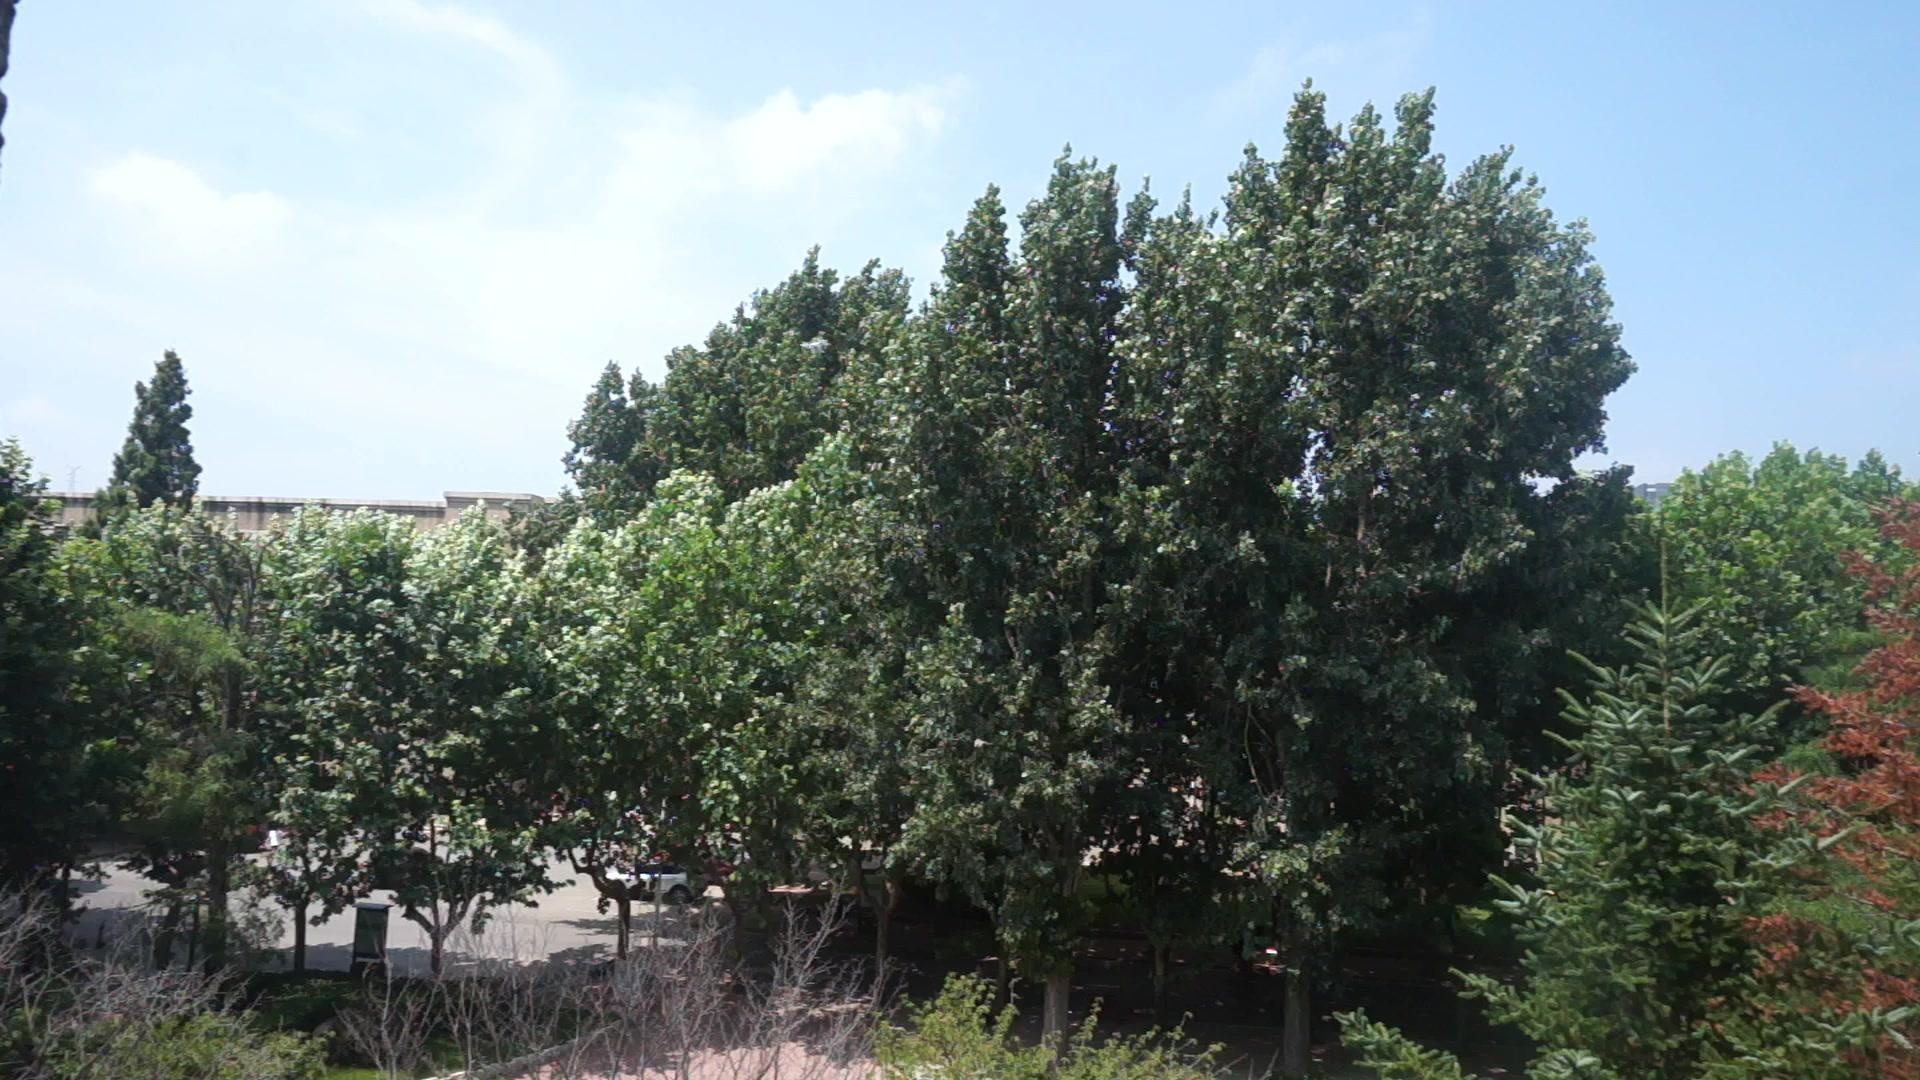UAV: (800, 338, 832, 353)
